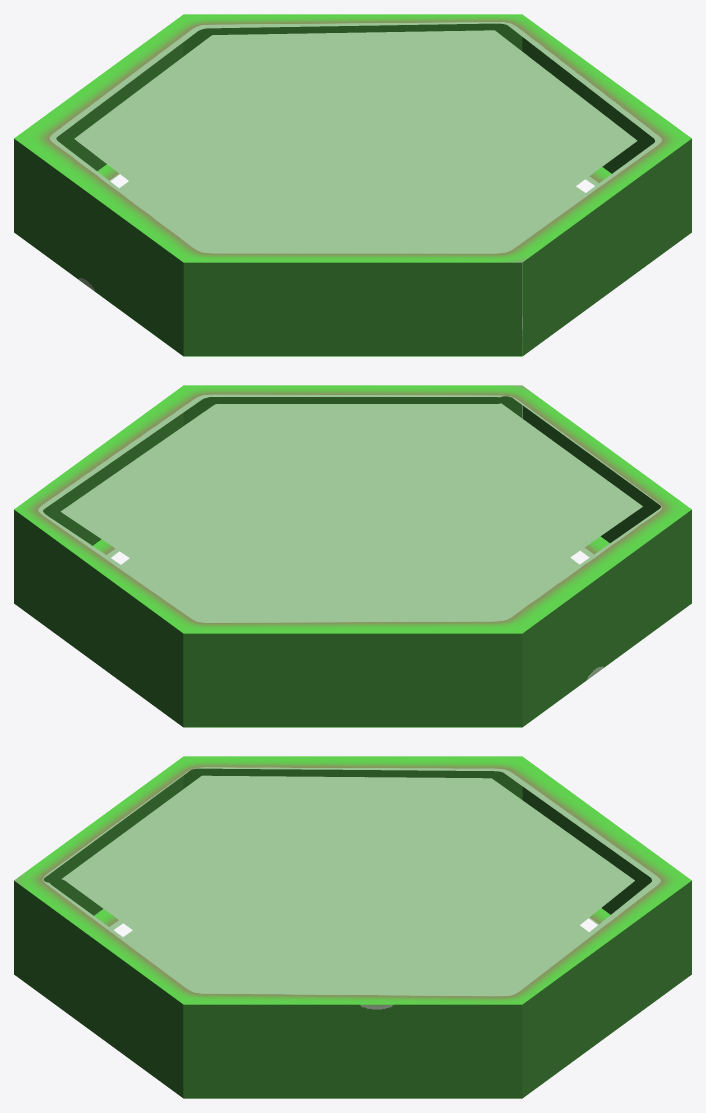
The model's file is basic_hex.obj.
The picture shows the model from 3 angles, top to bottom: view 1: azimuth 30°, elevation 25°; view 2: azimuth 150°, elevation 25°; view 3: azimuth 270°, elevation 25°; orthographic projection.
Visible parts, largest first — view 1: Circle; view 2: Circle; view 3: Circle.
Boxes of the visible parts, <box> form: Circle: <box>14,14,691,356</box>; Circle: <box>14,385,691,727</box>; Circle: <box>14,756,691,1098</box>.
Bounding box in the file's own units: 1.73 × 0.3059 × 2.
